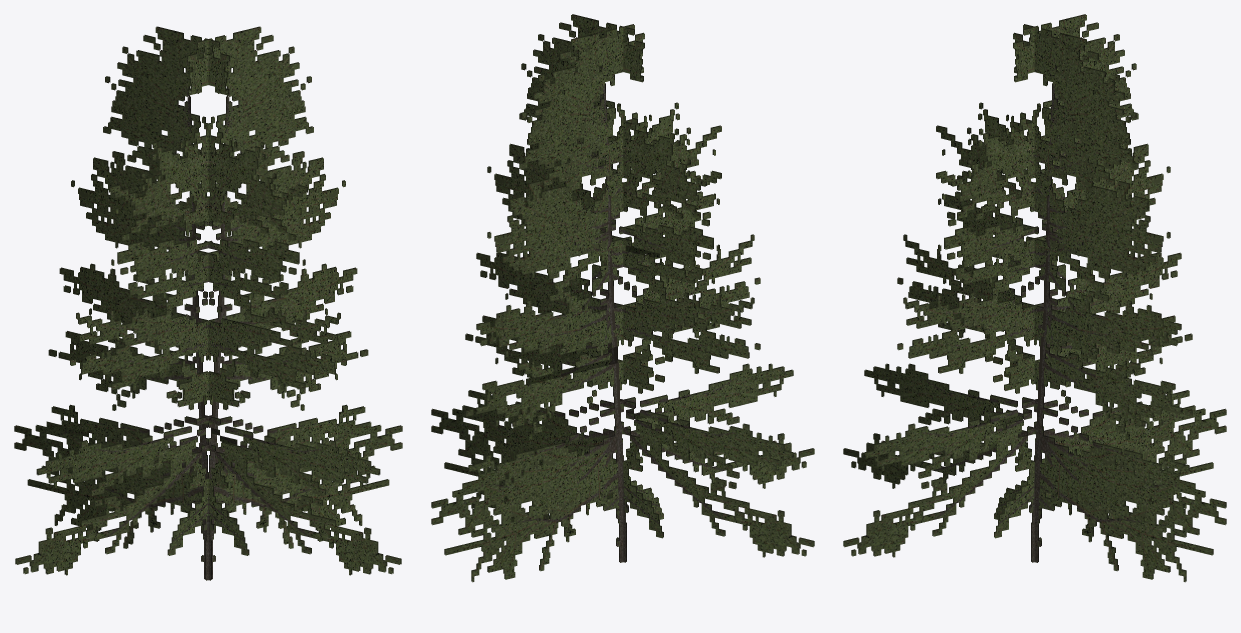
The model's file is impostor-fir-c-near.glb.
The picture shows the model from 3 angles, left to right: view 1: azimuth 30°, elevation 25°; view 2: azimuth 150°, elevation 25°; view 3: azimuth 270°, elevation 25°; orthographic projection.
Size of the model in its own units: 3.96 by 5.29 by 3.44.
1 material, 1 textured.
